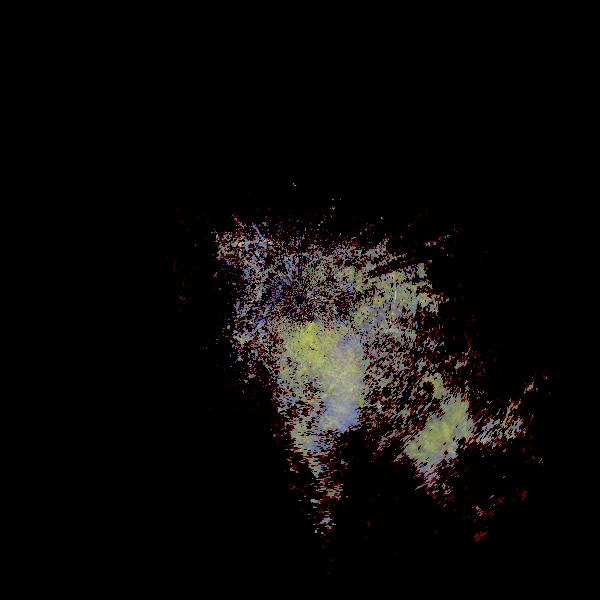roost: (223, 305, 382, 464)
